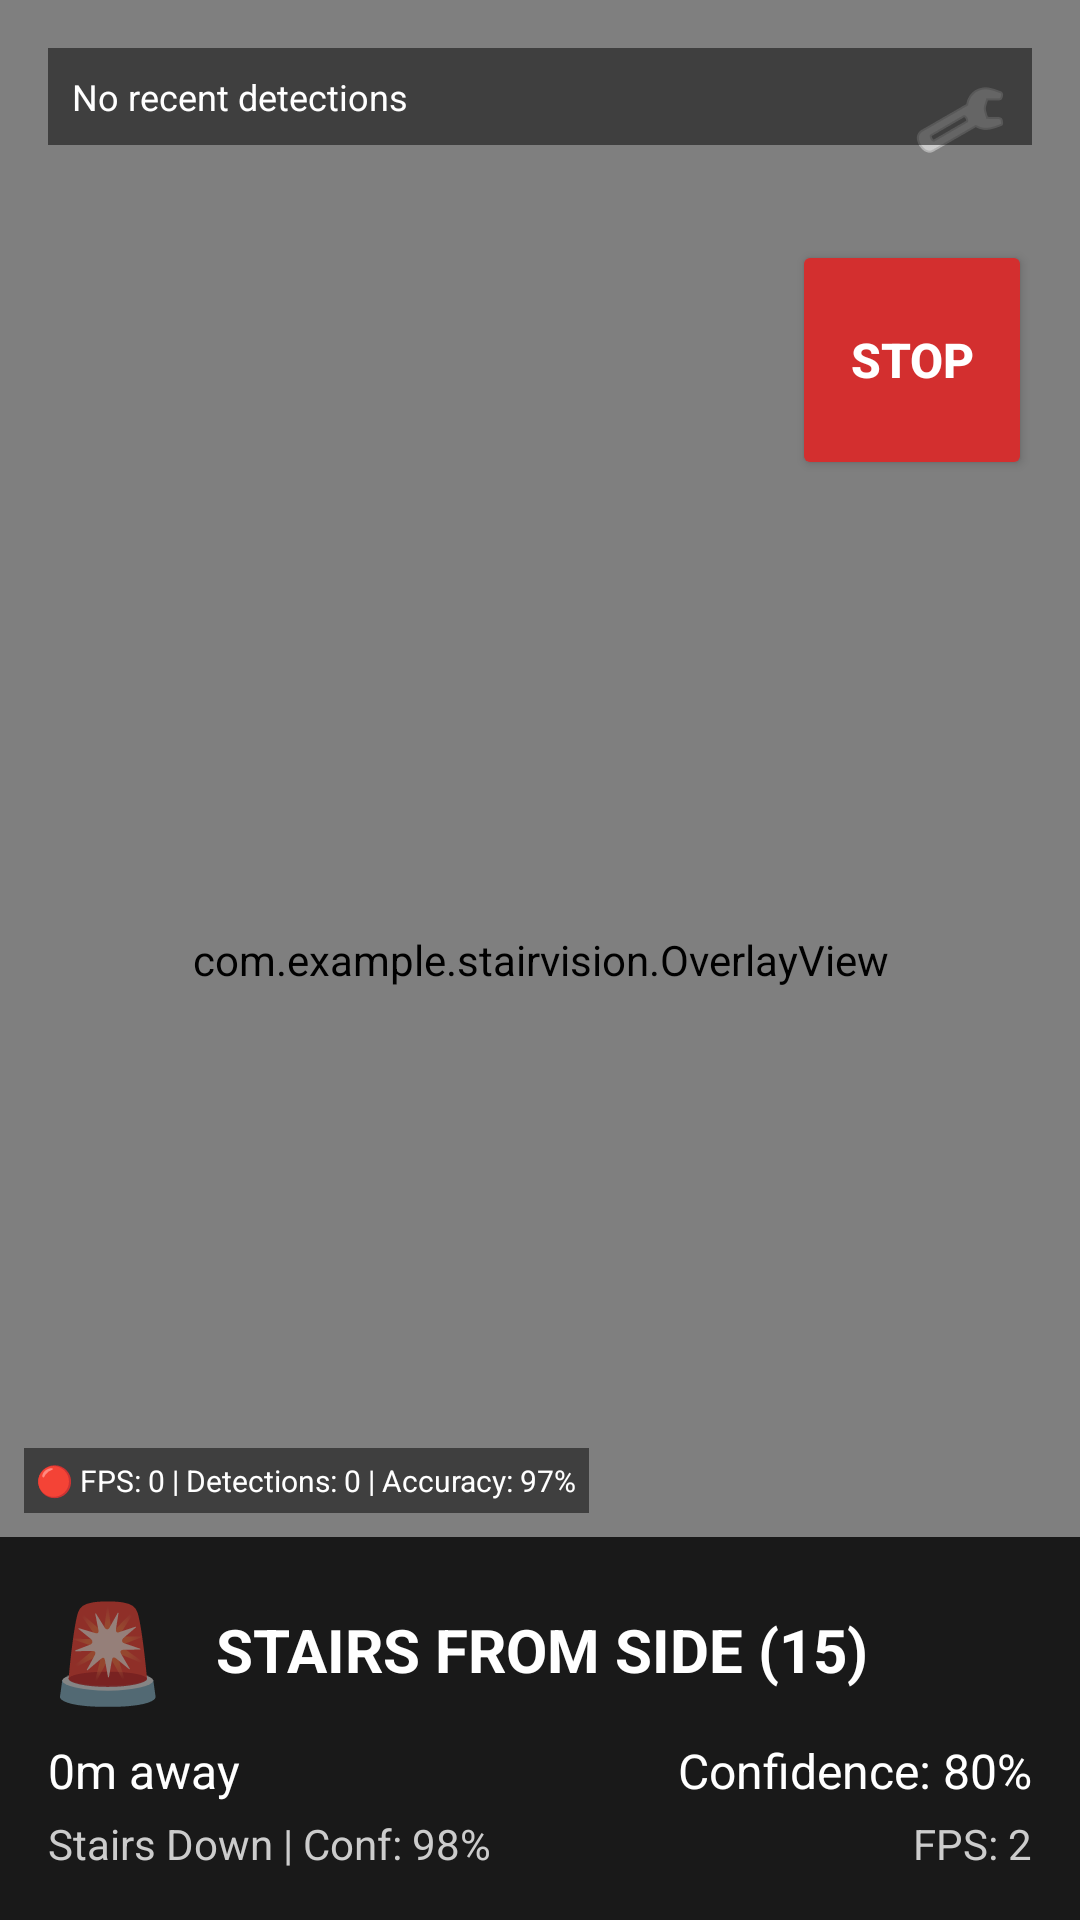

Point at icon controls on the screen. Image size 1080x1920, points as (x=x, y=y).
Settings: (x=960, y=100)
